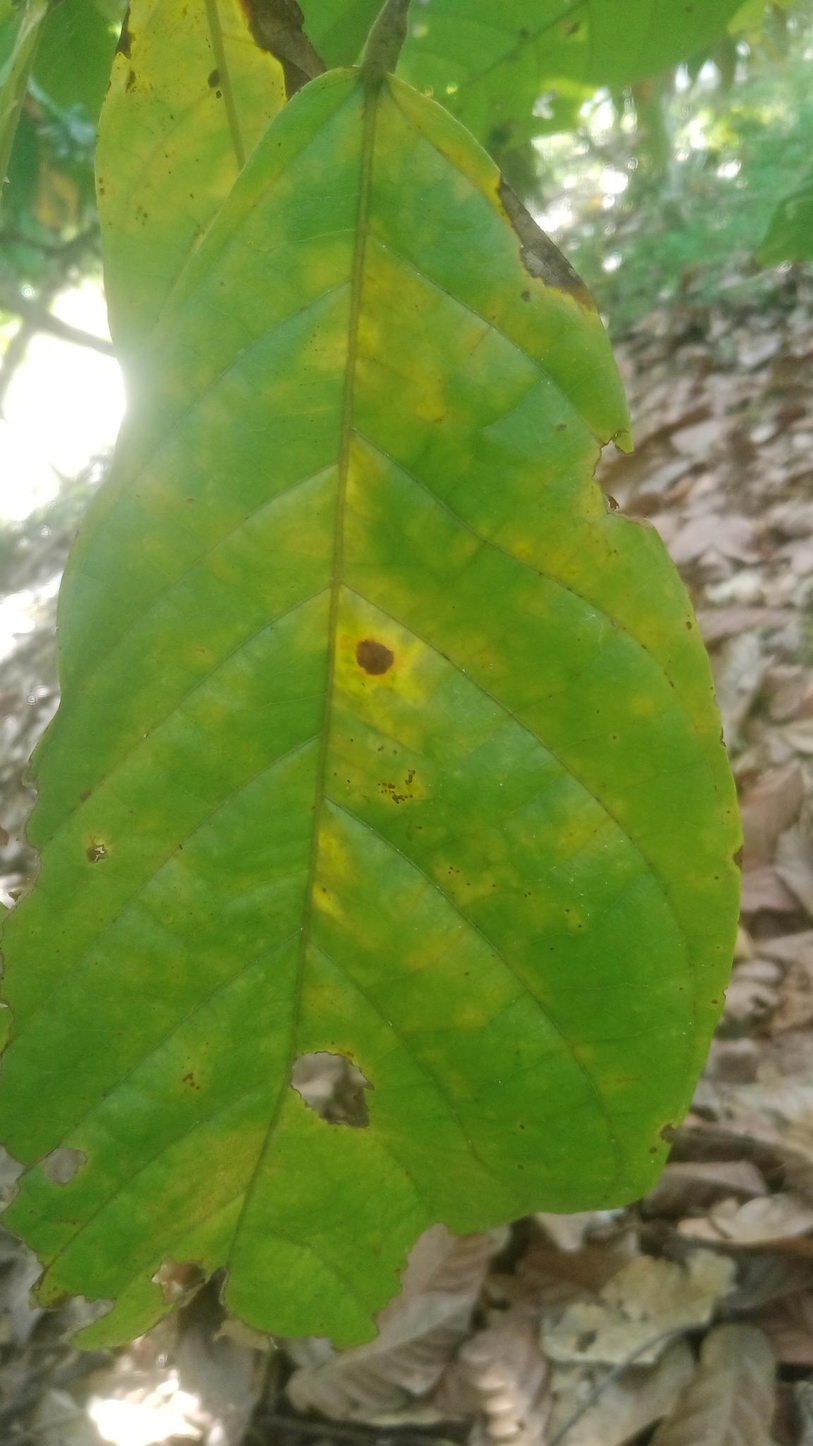Potasio: (0, 72, 741, 1352)
